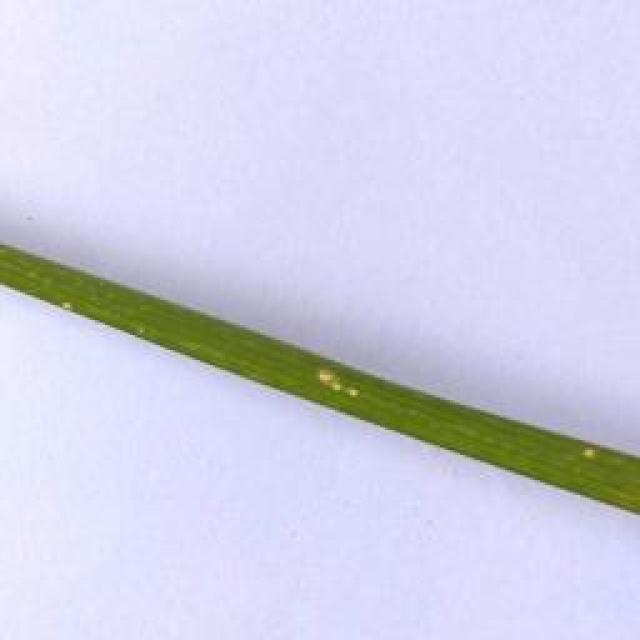Unhealthy: (317, 369, 359, 397), (582, 446, 597, 458), (61, 301, 73, 310)
